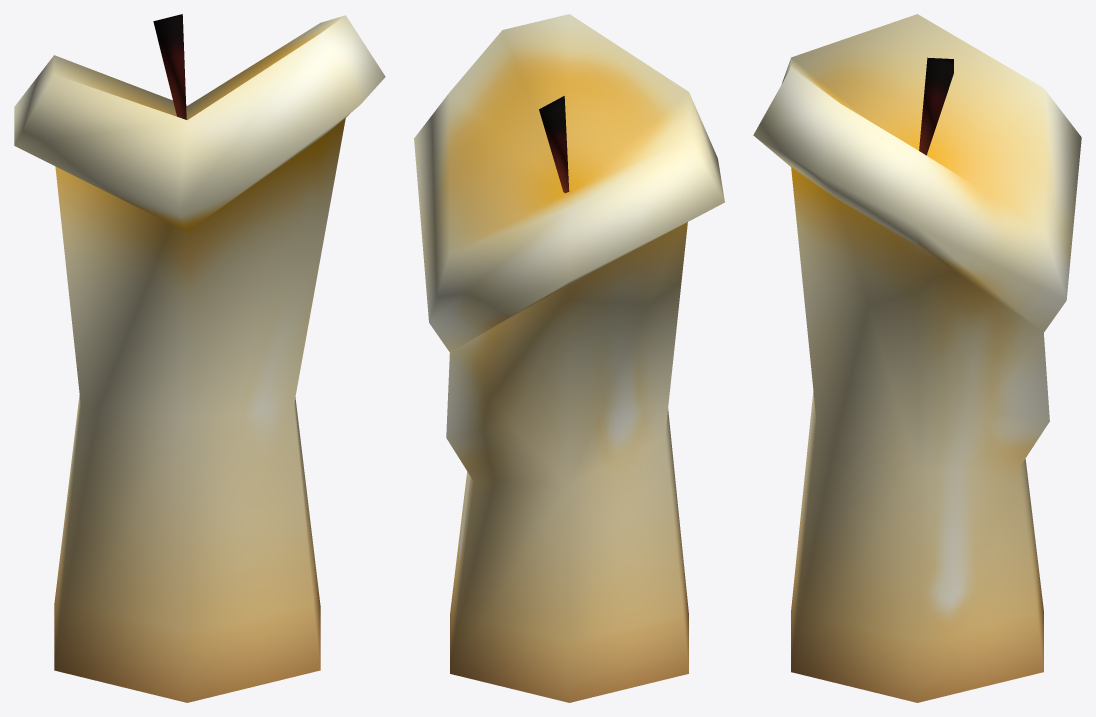
Rendered from candle_2.fbx.
3 renders of one model, left to right at view 1: azimuth 30°, elevation 25°; view 2: azimuth 150°, elevation 25°; view 3: azimuth 270°, elevation 25°, orthographic. The views are drawn at different scales.
Parts seen in each view (by area): view 1: candle_2; view 2: candle_2; view 3: candle_2.
Part boxes in pixels (<box>): candle_2: <box>14,14,385,702</box>; candle_2: <box>414,14,724,702</box>; candle_2: <box>753,14,1081,702</box>.
Bounding box in the file's own units: 1.57 × 2.76 × 1.36.
